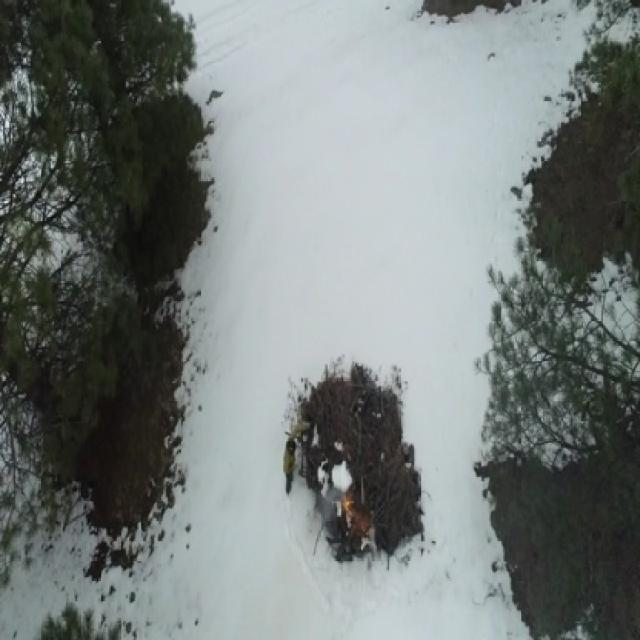Fire: (343, 490, 357, 516), (356, 516, 369, 535)
